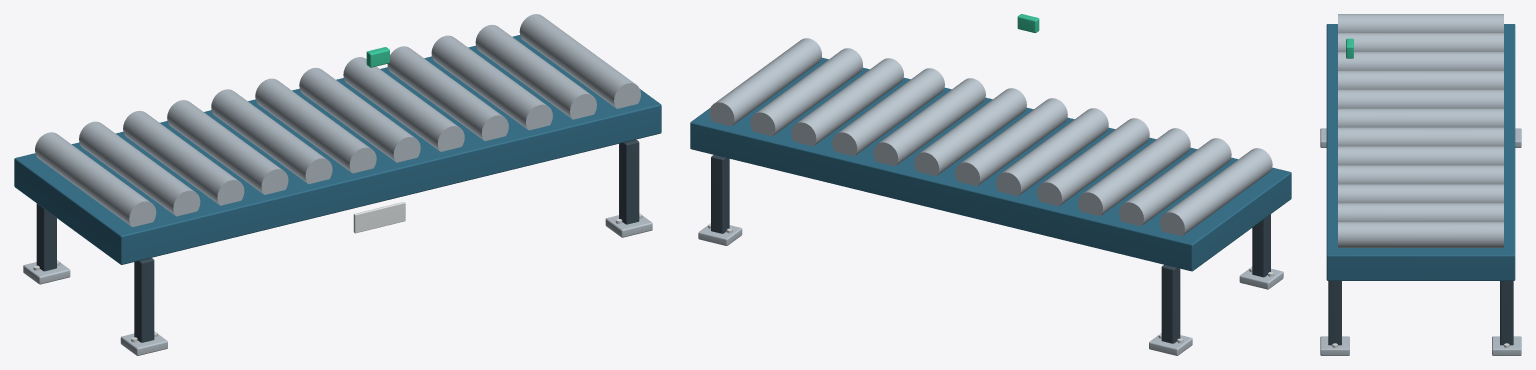
File: Equipment_RT.fbx
3 renders of one model, left to right at view 1: azimuth 30°, elevation 25°; view 2: azimuth 150°, elevation 25°; view 3: azimuth 270°, elevation 25°, orthographic. The views are drawn at different scales.
Visible parts, largest first — view 1: Frame, Roller.005, Roller.009, Roller.004, Roller, Roller.003, Roller.006, Roller.010, Roller.001, Roller.011, Roller.002, Roller.008 (+8 smaller); view 2: Frame, Roller.005, Roller.003, Roller.004, Roller.002, Roller.006, Roller.008, Roller.007, Roller.009, Roller.010, Roller.001, Roller (+7 smaller); view 3: Frame, Roller.011, Roller.003, Roller.004, Roller.005, Roller.006, Roller.007, Roller.008, Roller.002, Roller, Roller.009, Roller.010 (+5 smaller).
Part boxes in pixels (box(x1,y1,x2,y2)): Frame: box(14, 35, 661, 264); Roller.005: box(255, 78, 376, 173); Roller.009: box(431, 35, 552, 130); Roller.004: box(211, 89, 332, 183); Roller: box(35, 132, 156, 227); Roller.003: box(167, 100, 288, 194); Roller.006: box(299, 67, 420, 162); Roller.010: box(475, 24, 596, 119); Roller.001: box(79, 121, 200, 216); Roller.011: box(519, 14, 640, 108); Roller.002: box(123, 111, 244, 205); Roller.008: box(387, 46, 508, 140); Frame: box(690, 57, 1291, 271); Roller.005: box(955, 98, 1067, 186); Roller.003: box(1037, 118, 1149, 206); Roller.004: box(996, 108, 1108, 196); Roller.002: box(1078, 128, 1190, 216); Roller.006: box(914, 88, 1026, 176); Roller.008: box(832, 68, 944, 156); Roller.007: box(873, 78, 985, 166); Roller.009: box(791, 58, 903, 146); Roller.010: box(750, 48, 862, 136); Roller.001: box(1119, 138, 1231, 226); Roller: box(1160, 148, 1272, 236); Frame: box(1326, 24, 1515, 280); Roller.011: box(1338, 222, 1503, 247); Roller.003: box(1338, 70, 1503, 89); Roller.004: box(1338, 89, 1503, 108); Roller.005: box(1338, 108, 1503, 127); Roller.006: box(1338, 127, 1503, 146); Roller.007: box(1338, 146, 1503, 165); Roller.008: box(1338, 165, 1503, 184); Roller.002: box(1338, 51, 1503, 70); Roller: box(1338, 14, 1503, 32); Roller.009: box(1338, 184, 1503, 202); Roller.010: box(1338, 203, 1503, 221).
Size of the model in its own units: 4.8 by 1.96 by 1.76.
